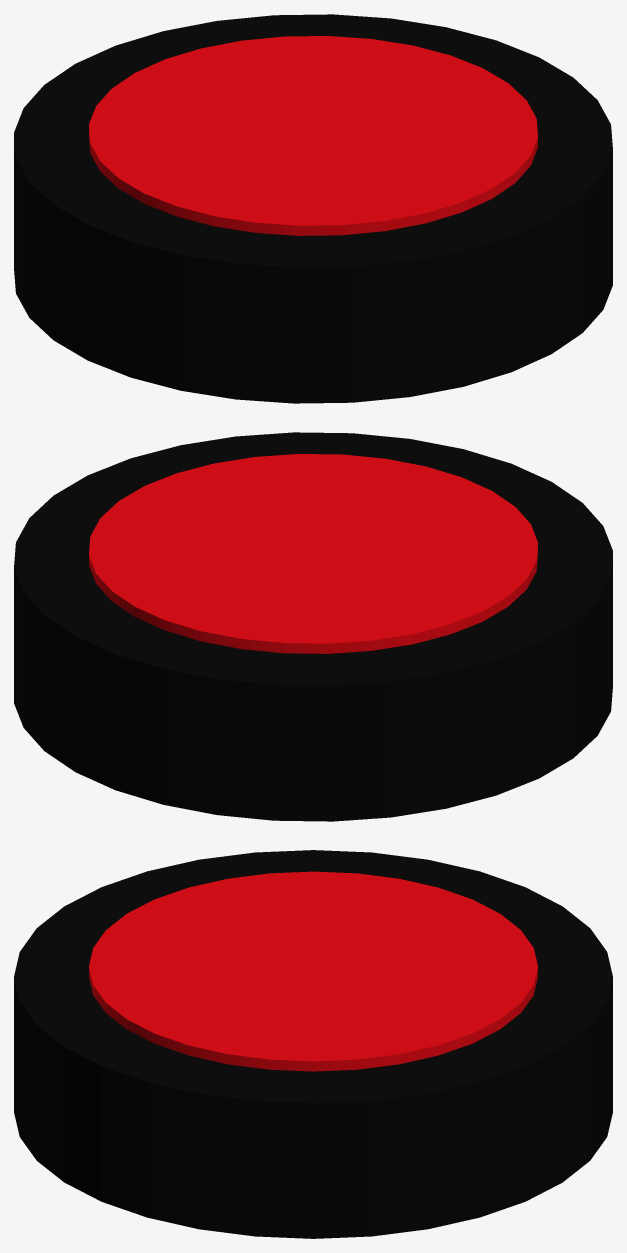
The model's file is button.fbx.
3 renders of one model, top to bottom at view 1: azimuth 30°, elevation 25°; view 2: azimuth 150°, elevation 25°; view 3: azimuth 270°, elevation 25°, orthographic.
Parts seen in each view (by area): view 1: Cylinder.001, Cylinder; view 2: Cylinder.001, Cylinder; view 3: Cylinder.001, Cylinder.
Part boxes in pixels (<box>): Cylinder.001: <box>14,14,612,403</box>; Cylinder: <box>89,36,537,235</box>; Cylinder.001: <box>14,432,612,821</box>; Cylinder: <box>89,454,537,653</box>; Cylinder.001: <box>14,850,612,1238</box>; Cylinder: <box>89,871,537,1071</box>.
Size of the model in its own units: 400 by 107 by 400.
